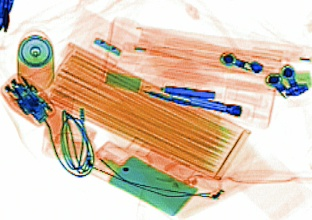pressure: (15, 27, 55, 93)
